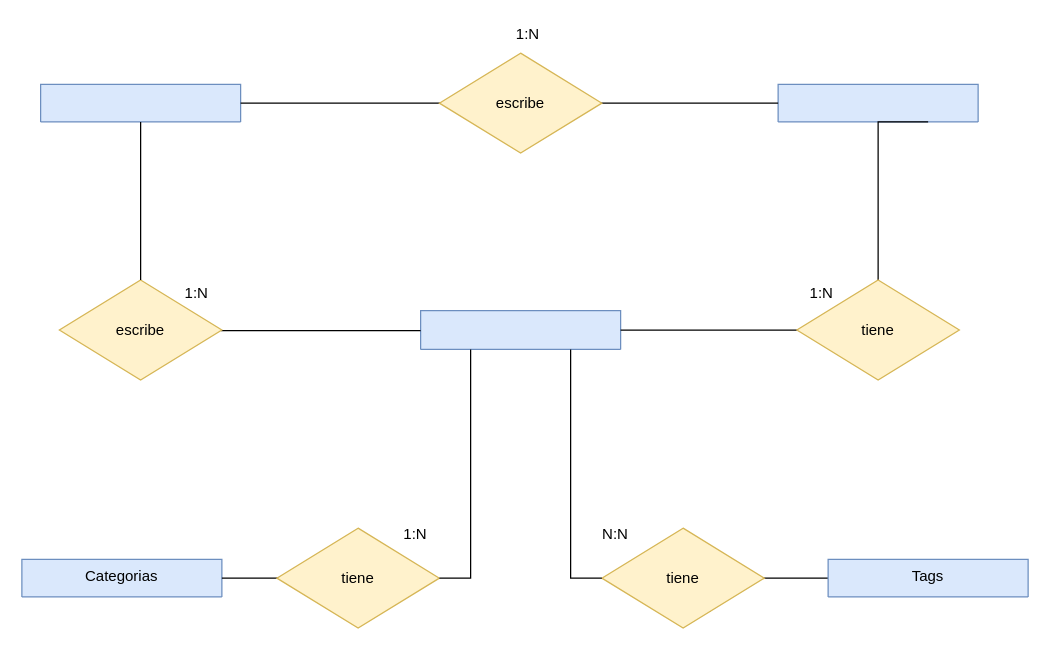
The diagram is 1050 pixels wide and 650 high, and some of its shapes have lost their labels. The box of each missing label's shape, as (x1, y1, x2, y2) in pixels:
Comentarios: (777, 83, 978, 122)
Posts: (419, 309, 621, 349)
Usuarios: (39, 83, 241, 122)
